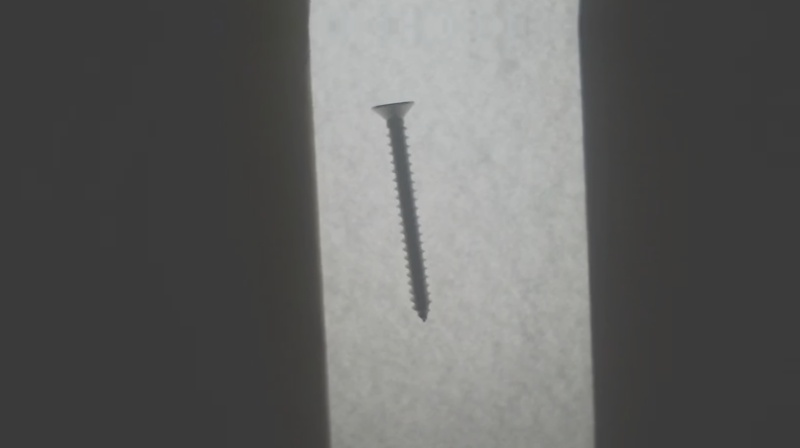S002: (368, 97, 433, 326)
